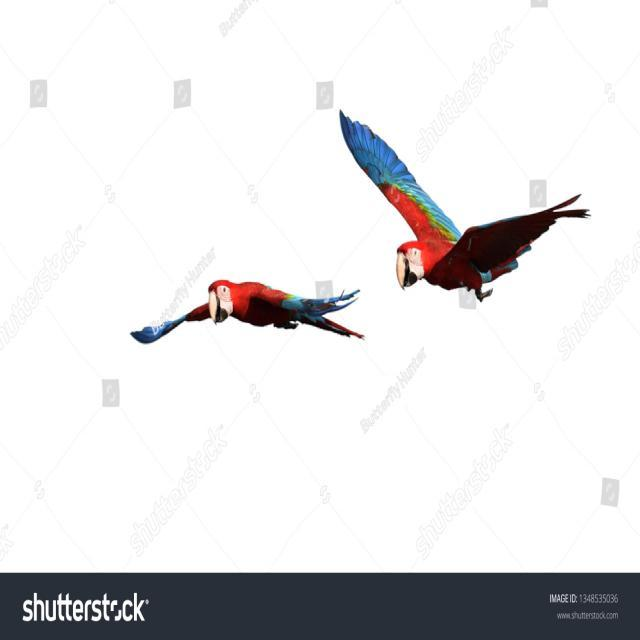bird: (317, 44, 603, 418), (107, 152, 376, 382)
